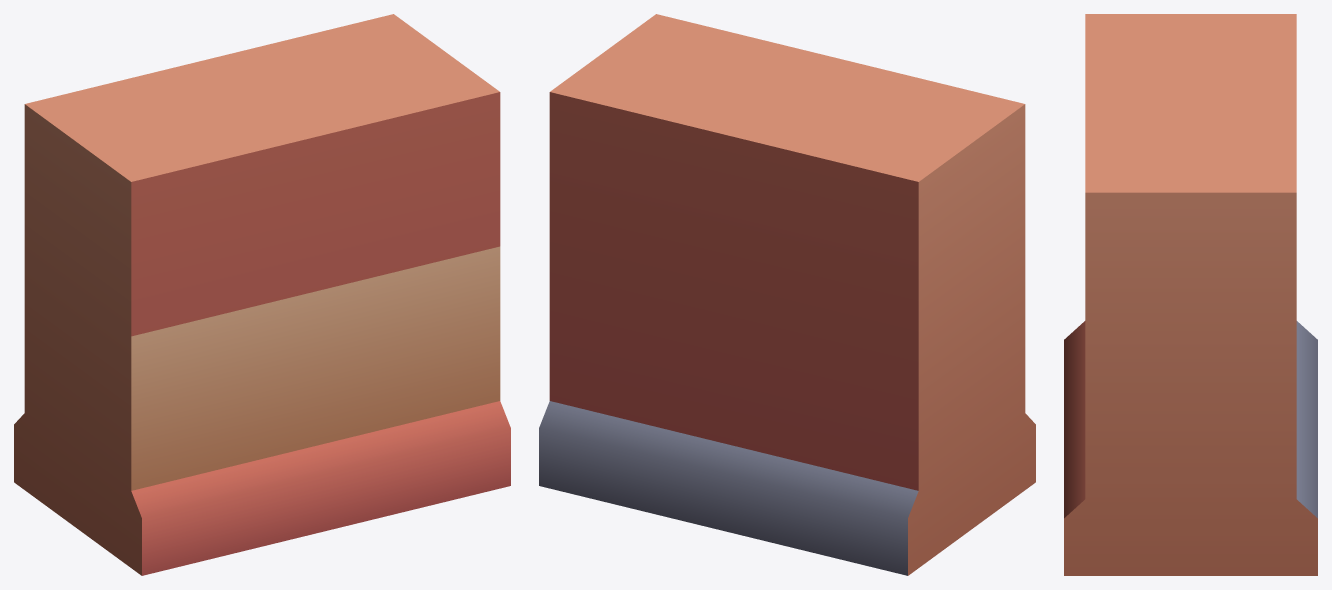
Rendered from wall.obj.
3 renders of one model, left to right at view 1: azimuth 30°, elevation 25°; view 2: azimuth 150°, elevation 25°; view 3: azimuth 270°, elevation 25°, orthographic.
Visible parts, largest first — view 1: wall; view 2: wall; view 3: wall.
Boxes of the visible parts, <box> form: wall: <box>14,14,510,575</box>; wall: <box>539,14,1035,575</box>; wall: <box>1064,14,1317,575</box>.
Bounding box in the file's own units: 1 × 1 × 0.6.
